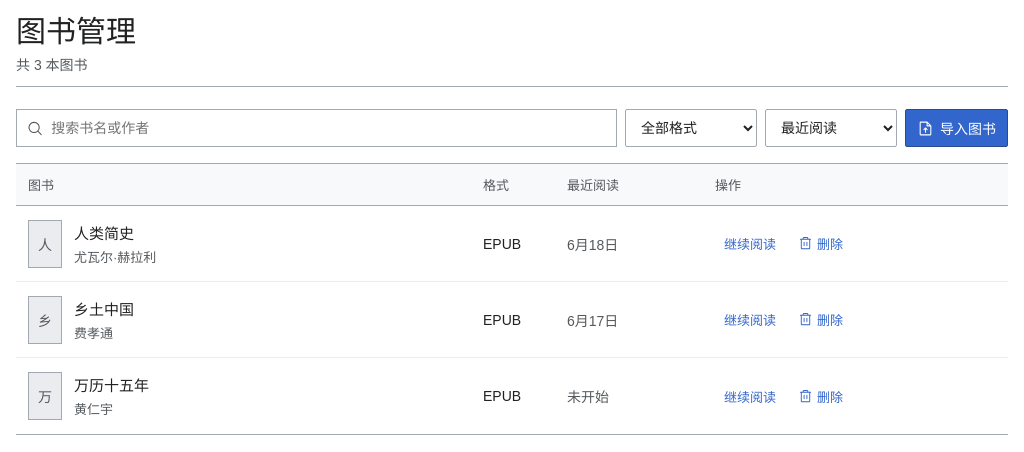
Test: LibraryPage › shows a recoverable no-results state
The image size is (1024, 452).
Type "不存在" into the field named "搜索图书". click: [329, 128]
box: [51,110,606,146]
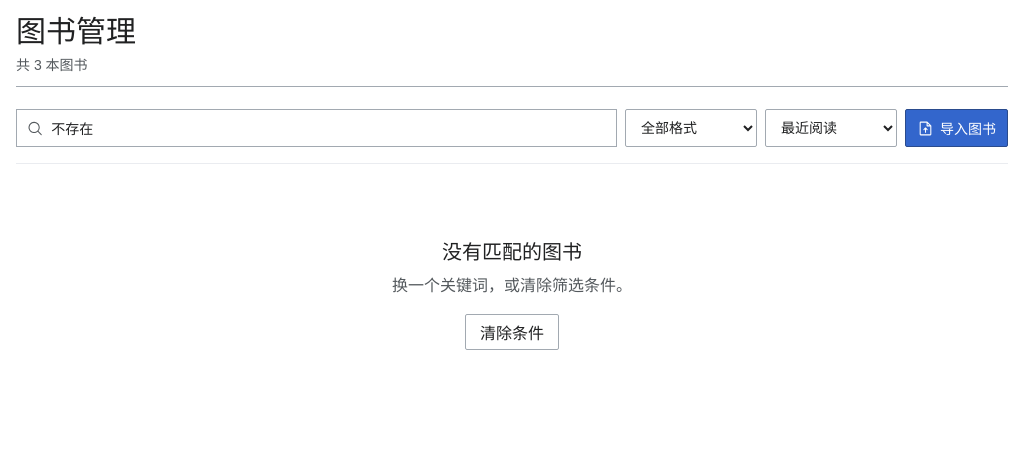
Result: the heading "没有匹配的图书" is shown at [442,241,582,263]
Click the button "清除条件". click: [512, 332]
box: [465,314,559,350]
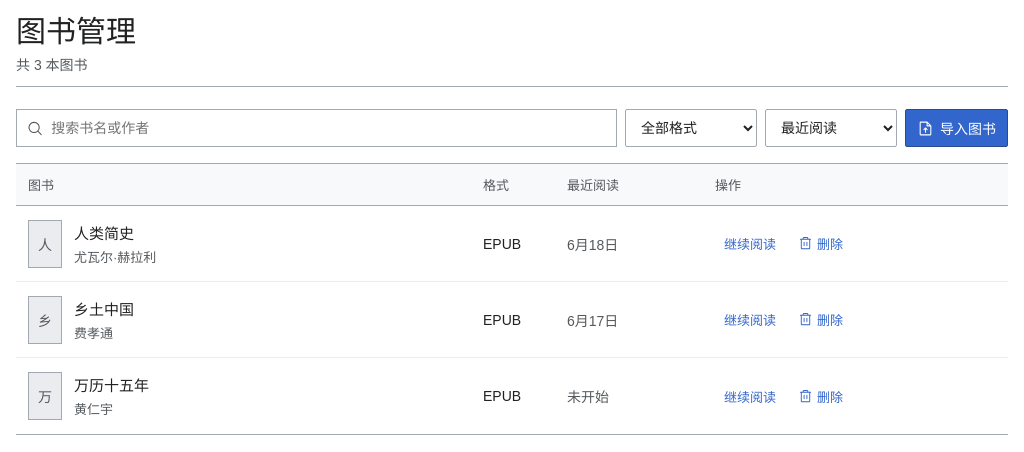
Result: the text "人类简史" is shown at [74,224,134,242]
